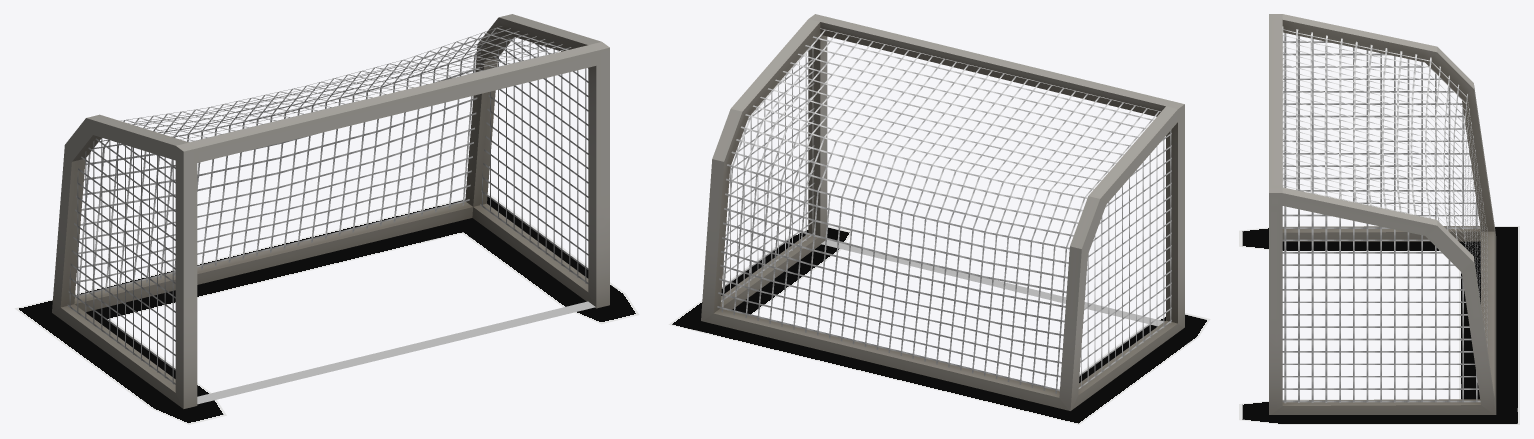
The model's file is soccer_gate.FBX.
3 views of the same model, side by side, from view 1: azimuth 30°, elevation 25°; view 2: azimuth 150°, elevation 25°; view 3: azimuth 270°, elevation 25° (orthographic). The views are drawn at different scales.
Visible parts, largest first — view 1: soccer_gate, soccer_gate_soft_shadow, soccer_gate_painting; view 2: soccer_gate, soccer_gate_soft_shadow, soccer_gate_painting; view 3: soccer_gate, soccer_gate_soft_shadow.
Part boxes in pixels (left/top/right/bottom): soccer_gate: left=52, top=14, right=609, bottom=408; soccer_gate_soft_shadow: left=14, top=193, right=639, bottom=424; soccer_gate_painting: left=197, top=301, right=595, bottom=404; soccer_gate: left=701, top=14, right=1184, bottom=410; soccer_gate_soft_shadow: left=668, top=226, right=1210, bottom=424; soccer_gate_painting: left=821, top=240, right=1164, bottom=326; soccer_gate: left=1269, top=14, right=1496, bottom=414; soccer_gate_soft_shadow: left=1239, top=226, right=1519, bottom=424.
Size of the model in its own units: 3445 by 1800 by 2054.
